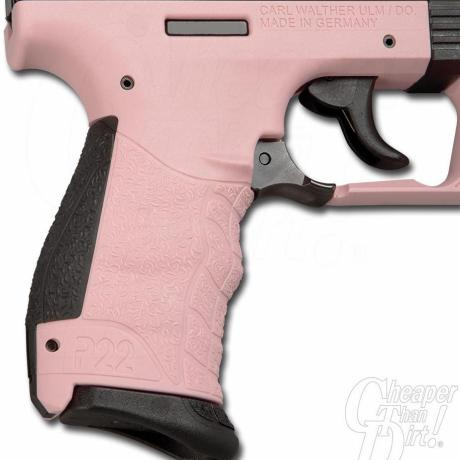weapon: (11, 0, 450, 457)
